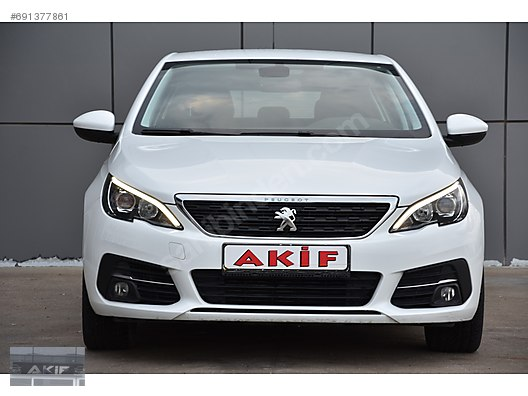peugeot: (74, 51, 491, 355)
